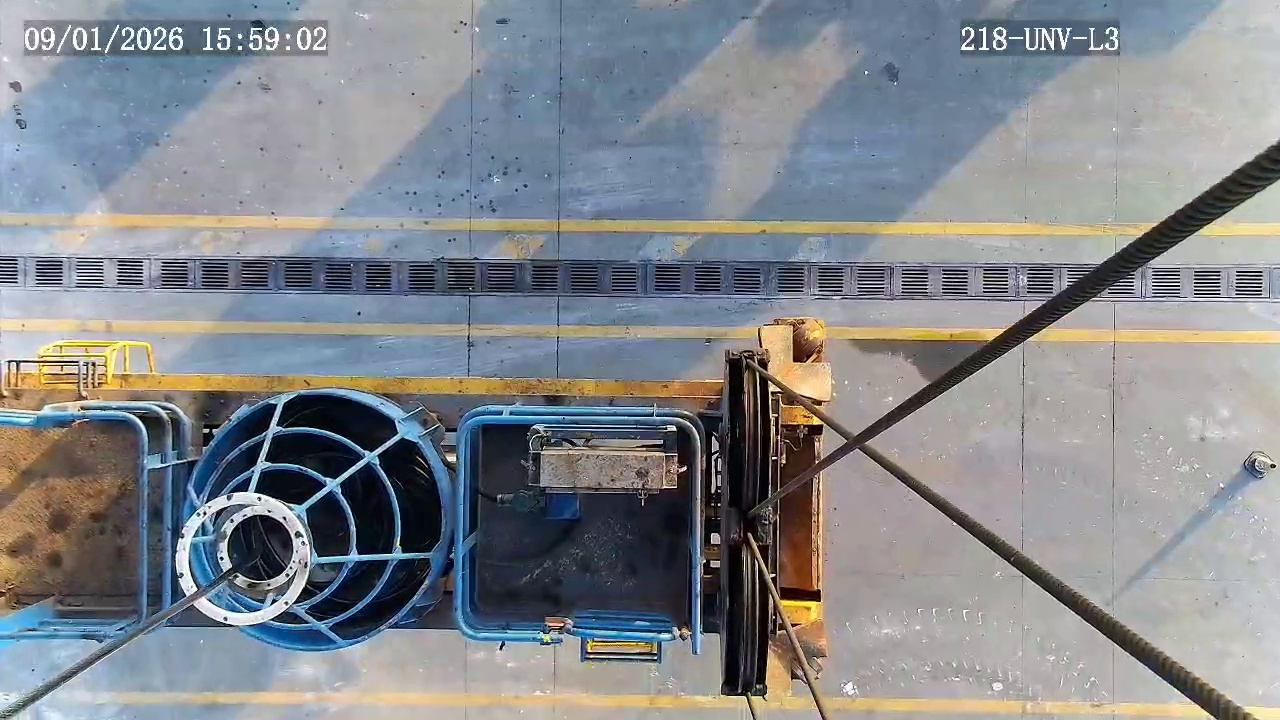right: (183, 391, 446, 651)
